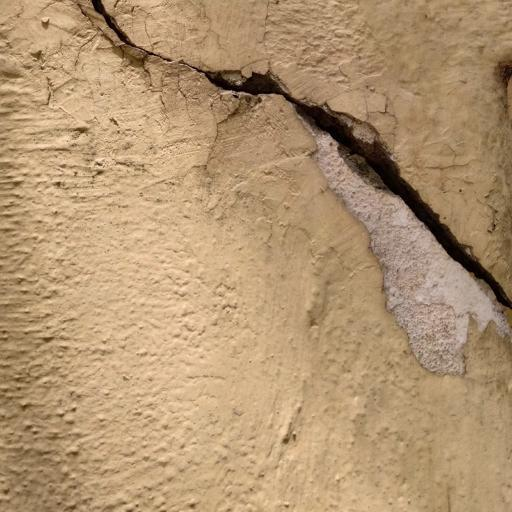major_crack: (78, 0, 512, 328)
